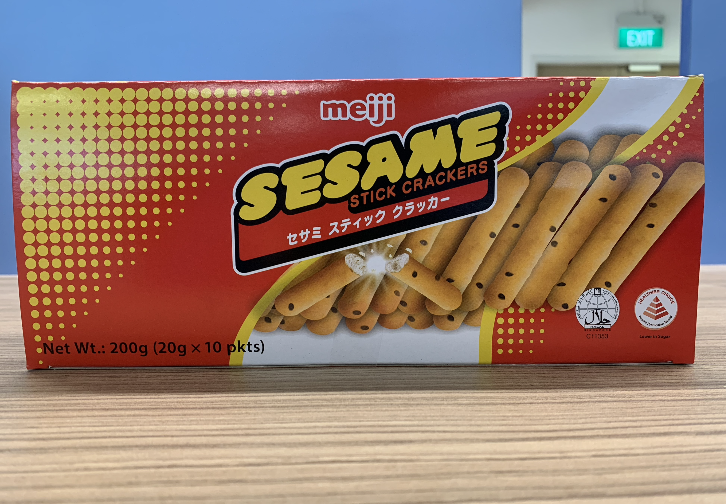crackers_200g-299g: (37, 94, 684, 357)
